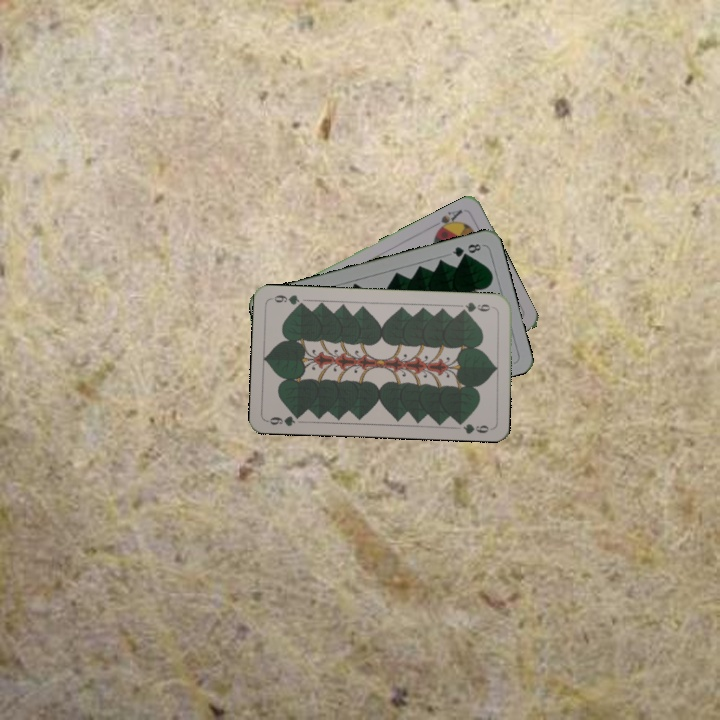G8: (448, 239, 484, 260)
G9: (264, 410, 305, 429), (456, 298, 497, 315)
SA: (433, 205, 465, 235)
